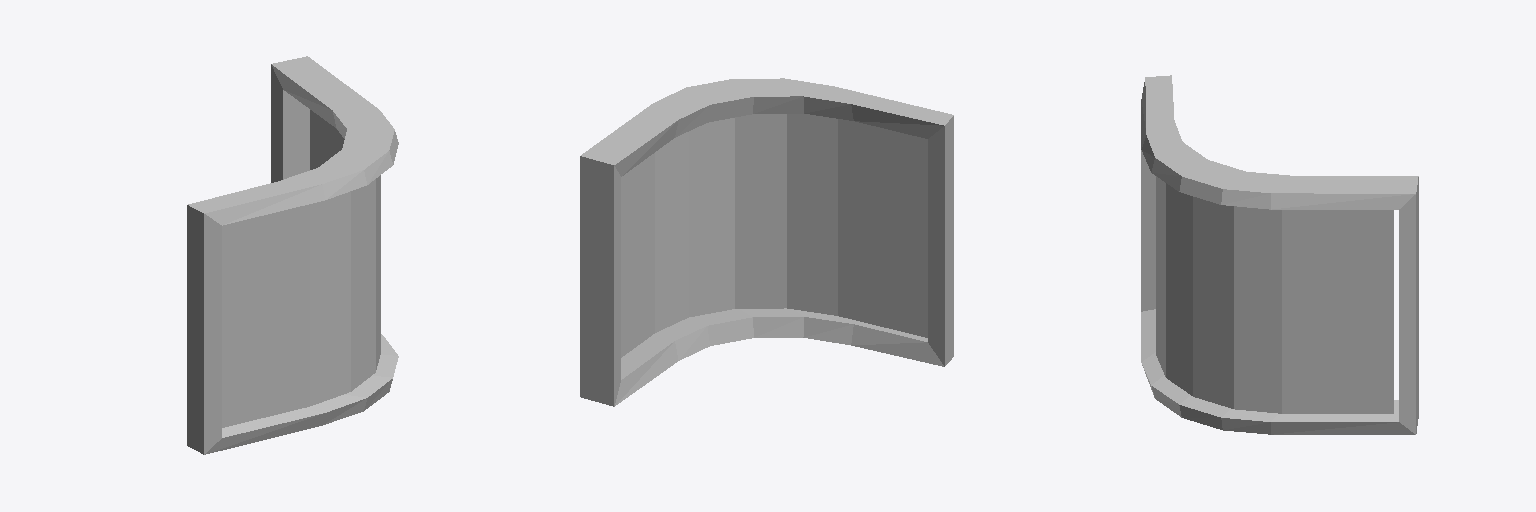
The model's file is Sign_Corner_Small1_Plane_001.obj.
The picture shows the model from 3 angles: view 1: azimuth 30°, elevation 25°; view 2: azimuth 150°, elevation 25°; view 3: azimuth 270°, elevation 25°; orthographic projection.
Parts seen in each view (by area): view 1: Sign_Corner_Small1_Plane.001_Sign_Corner_Small1_Plane.002; view 2: Sign_Corner_Small1_Plane.001_Sign_Corner_Small1_Plane.002; view 3: Sign_Corner_Small1_Plane.001_Sign_Corner_Small1_Plane.002.
Part boxes in pixels (x1,y1,x2,y2): Sign_Corner_Small1_Plane.001_Sign_Corner_Small1_Plane.002: (187, 56, 398, 454); Sign_Corner_Small1_Plane.001_Sign_Corner_Small1_Plane.002: (580, 78, 953, 406); Sign_Corner_Small1_Plane.001_Sign_Corner_Small1_Plane.002: (1141, 75, 1418, 434).
Bounding box in the file's own units: 0.5134 × 0.482 × 0.5017.